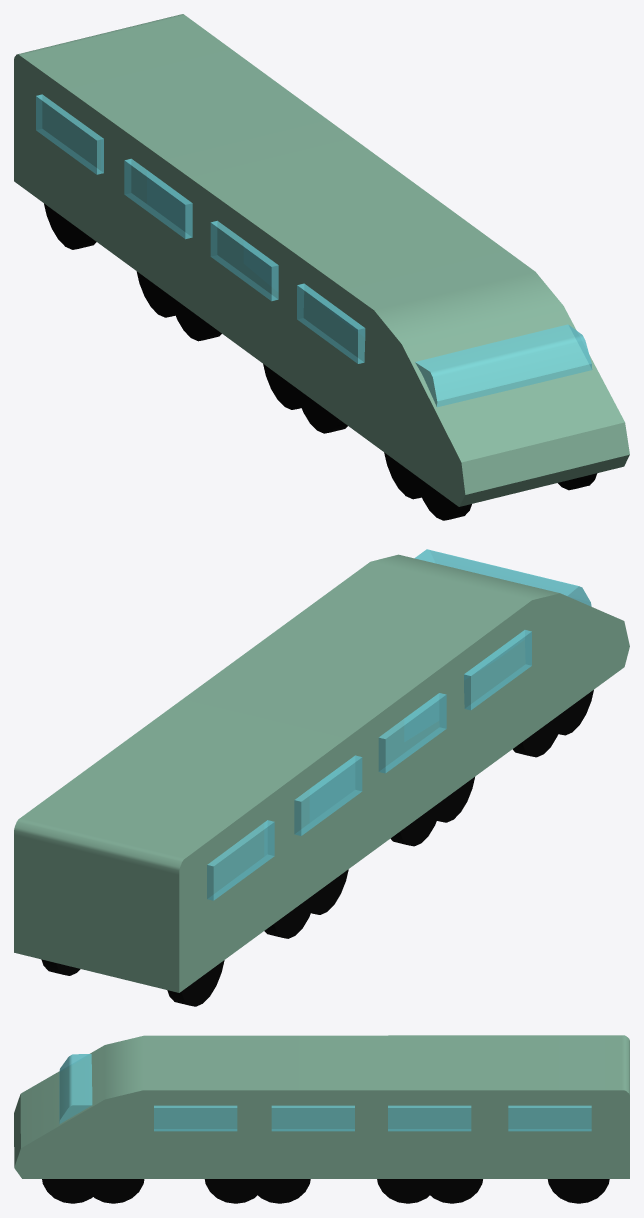
Rendered from Train.fbx.
3 views of the same model, one above another, from view 1: azimuth 30°, elevation 25°; view 2: azimuth 150°, elevation 25°; view 3: azimuth 270°, elevation 25° (orthographic). The views are drawn at different scales.
Parts seen in each view (by area): view 1: pCube15; view 2: pCube15; view 3: pCube15.
Part boxes in pixels (x1,y1,x2,y2): pCube15: (14,14,629,520); pCube15: (14,549,629,1006); pCube15: (14,1035,629,1203).
Size of the model in its own units: 1.69 by 1.56 by 7.39.
